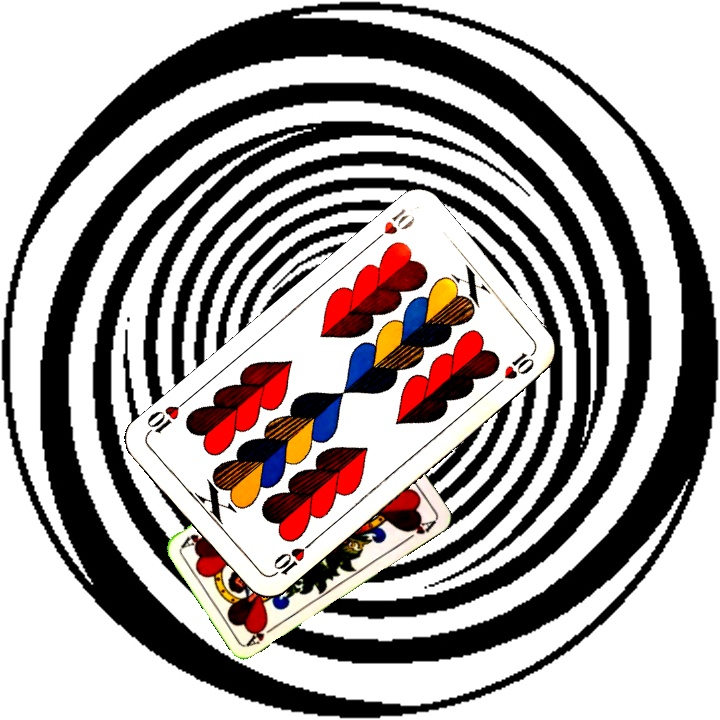H10: (365, 204, 418, 248), (265, 537, 315, 580)
HA: (243, 619, 280, 649)
